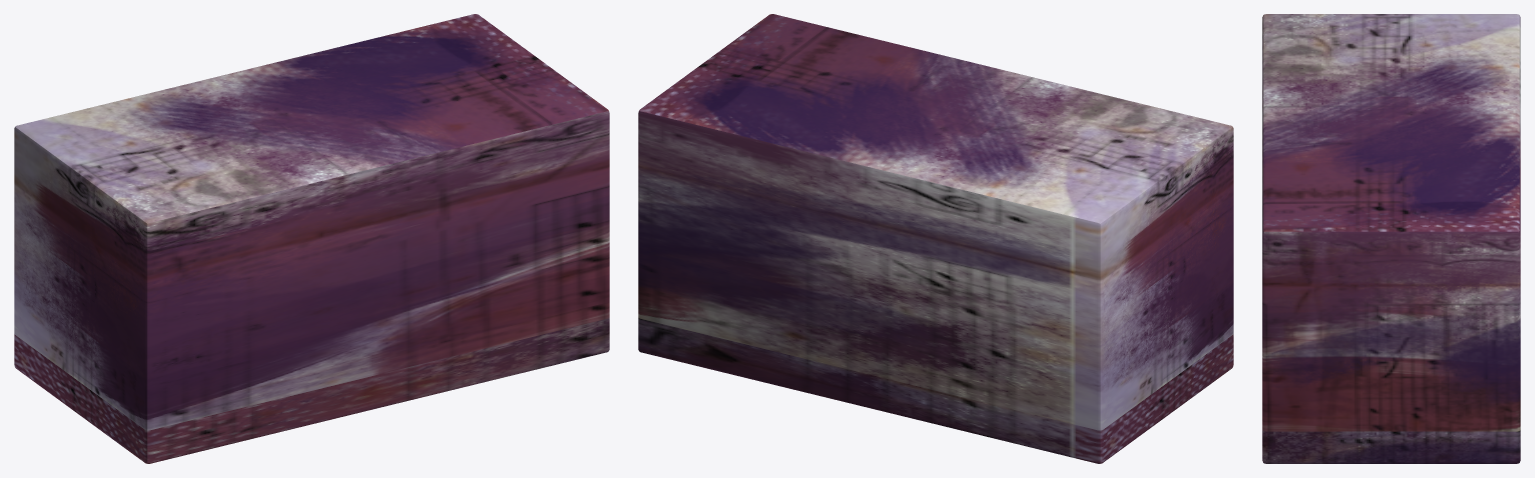
The model's file is MANOR_GROUND_2_002.obj.
3 renders of one model, left to right at view 1: azimuth 30°, elevation 25°; view 2: azimuth 150°, elevation 25°; view 3: azimuth 270°, elevation 25°, orthographic. The views are drawn at different scales.
Parts seen in each view (by area): view 1: MANOR_GROUND_2_002; view 2: MANOR_GROUND_2_002; view 3: MANOR_GROUND_2_002.
Part boxes in pixels (bbox=[...]): MANOR_GROUND_2_002: bbox=[14, 14, 609, 463]; MANOR_GROUND_2_002: bbox=[638, 14, 1233, 463]; MANOR_GROUND_2_002: bbox=[1262, 14, 1520, 463].
Bounding box in the file's own units: 2 × 1 × 1.
